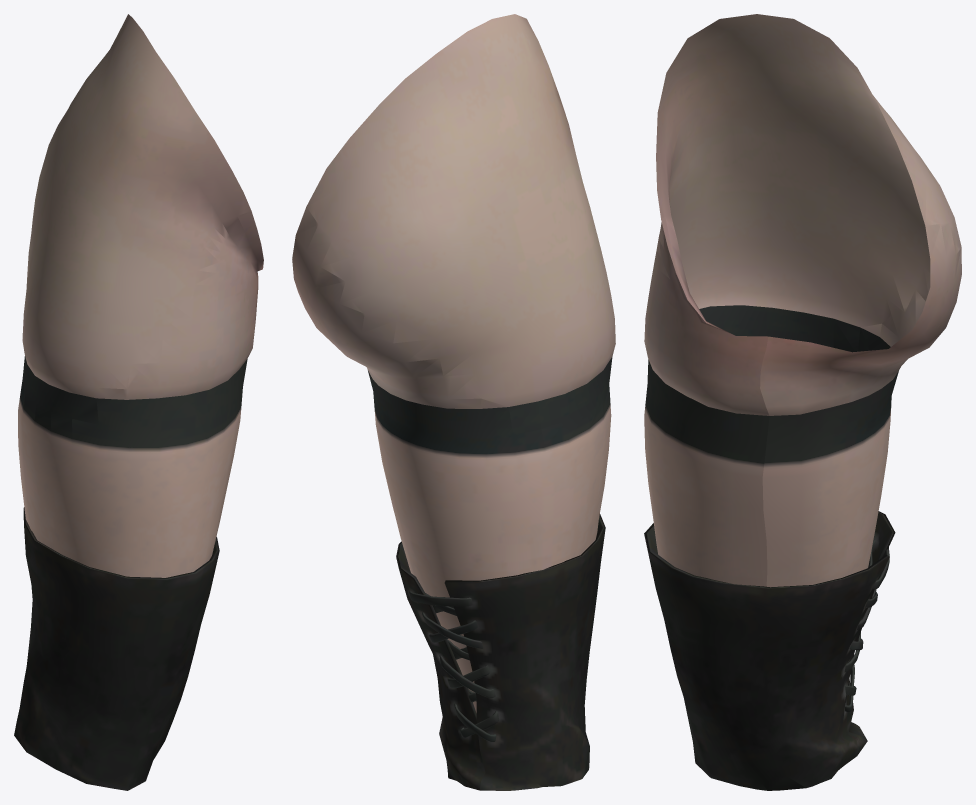
Rendered from rightleg.obj.
3 views of the same model, side by side, from view 1: azimuth 30°, elevation 25°; view 2: azimuth 150°, elevation 25°; view 3: azimuth 270°, elevation 25° (orthographic). The views are drawn at different scales.
Parts seen in each view (by area): view 1: rightleg:Object01 rightleg:polySurface3 rightleg:polySurface7 ri; view 2: rightleg:Object01 rightleg:polySurface3 rightleg:polySurface7 ri; view 3: rightleg:Object01 rightleg:polySurface3 rightleg:polySurface7 ri.
Part boxes in pixels (bbox=[...]): rightleg:Object01 rightleg:polySurface3 rightleg:polySurface7 ri: bbox=[14, 14, 263, 790]; rightleg:Object01 rightleg:polySurface3 rightleg:polySurface7 ri: bbox=[292, 14, 615, 790]; rightleg:Object01 rightleg:polySurface3 rightleg:polySurface7 ri: bbox=[644, 14, 961, 790].
Bounding box in the file's own units: 3.98 × 12.57 × 4.68.
2 materials, 2 textured.
